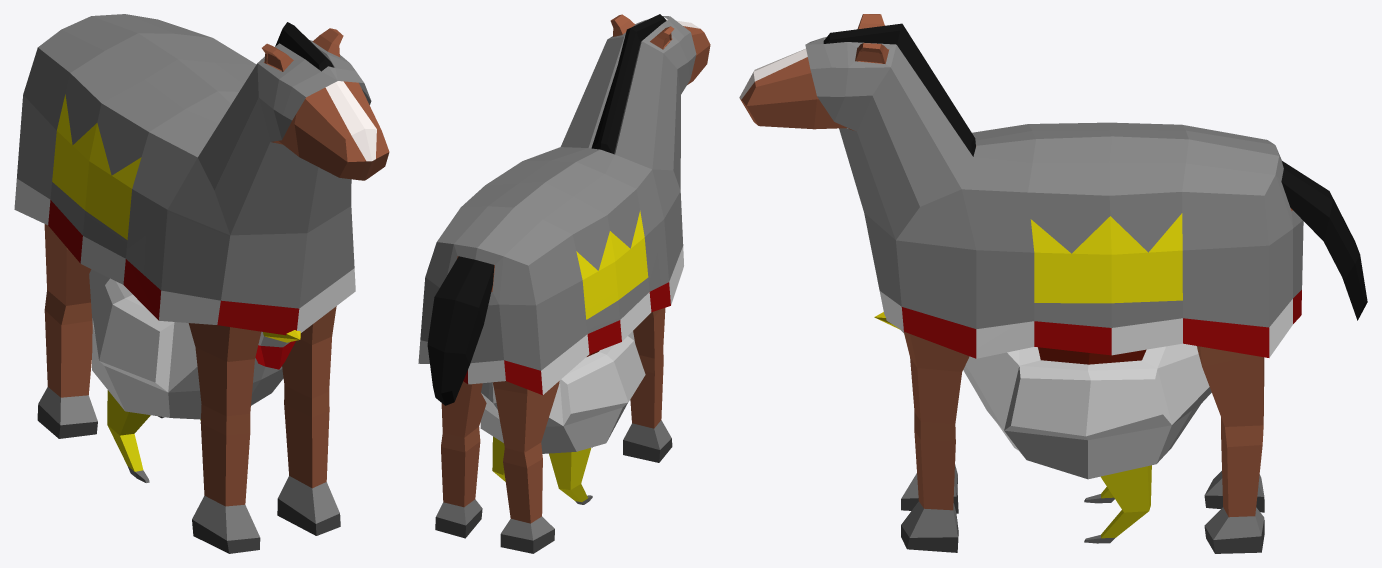
The model's file is Horse&Chicken.fbx.
The picture shows the model from 3 angles, left to right: view 1: azimuth 30°, elevation 25°; view 2: azimuth 150°, elevation 25°; view 3: azimuth 270°, elevation 25°; orthographic projection. The views are drawn at different scales.
Visible parts, largest first — view 1: Horse, Chicken; view 2: Horse, Chicken; view 3: Horse, Chicken.
Part boxes in pixels (bbox=[...]): Horse: bbox=[14, 14, 389, 553]; Chicken: bbox=[89, 269, 300, 482]; Horse: bbox=[418, 14, 710, 553]; Chicken: bbox=[480, 331, 645, 504]; Horse: bbox=[739, 14, 1367, 553]; Chicken: bbox=[874, 312, 1211, 543].
Bounding box in the file's own units: 64.27 × 163 × 186.
